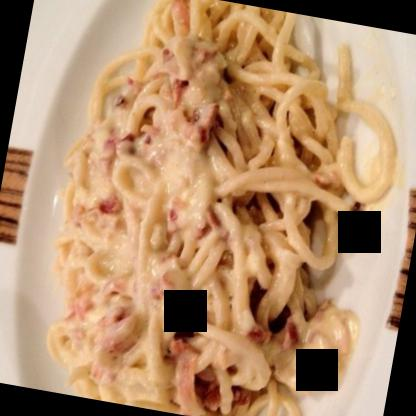pasta: (23, 0, 385, 415)
